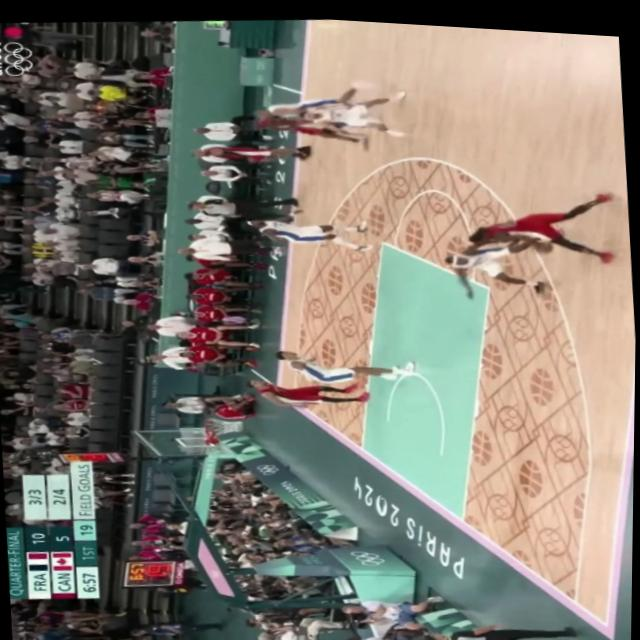ball_handler: (463, 173, 615, 266)
